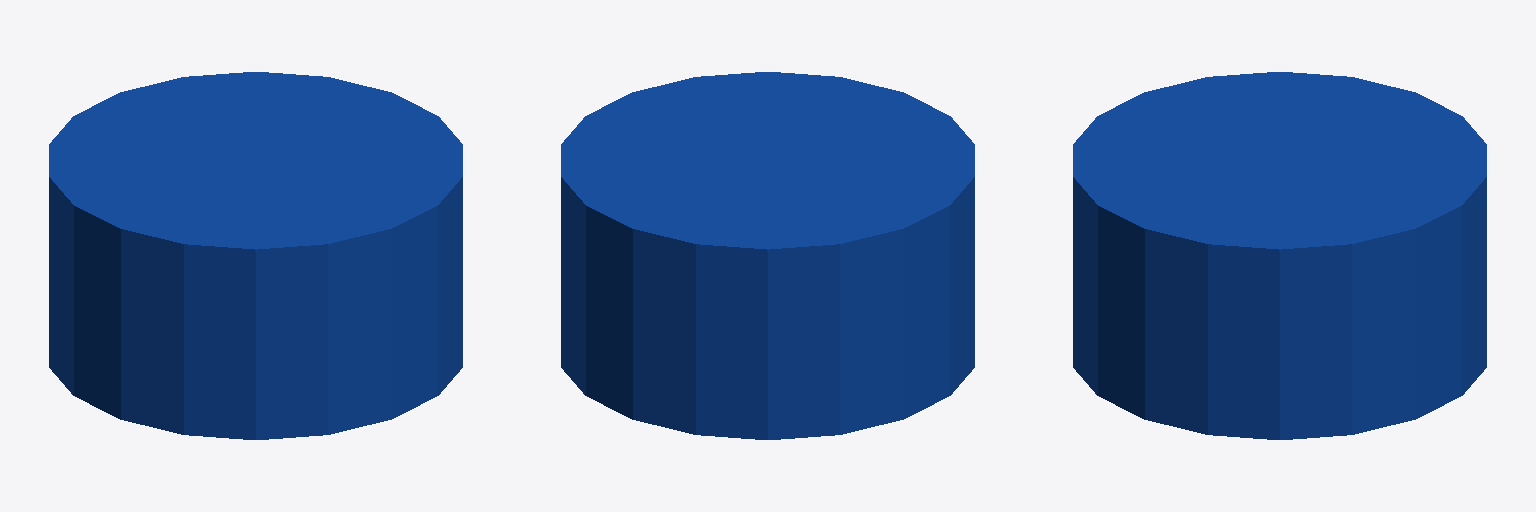
File: cilinder.obj
The picture shows the model from 3 angles: view 1: azimuth 30°, elevation 25°; view 2: azimuth 150°, elevation 25°; view 3: azimuth 270°, elevation 25°; orthographic projection.
Visible parts, largest first — view 1: Cylinder001; view 2: Cylinder001; view 3: Cylinder001.
Boxes of the visible parts, x1,y1,x2,y2 form: Cylinder001: [49, 72, 462, 439]; Cylinder001: [561, 72, 974, 439]; Cylinder001: [1073, 72, 1486, 439].
Size of the model in its own units: 2 by 1 by 1.97.